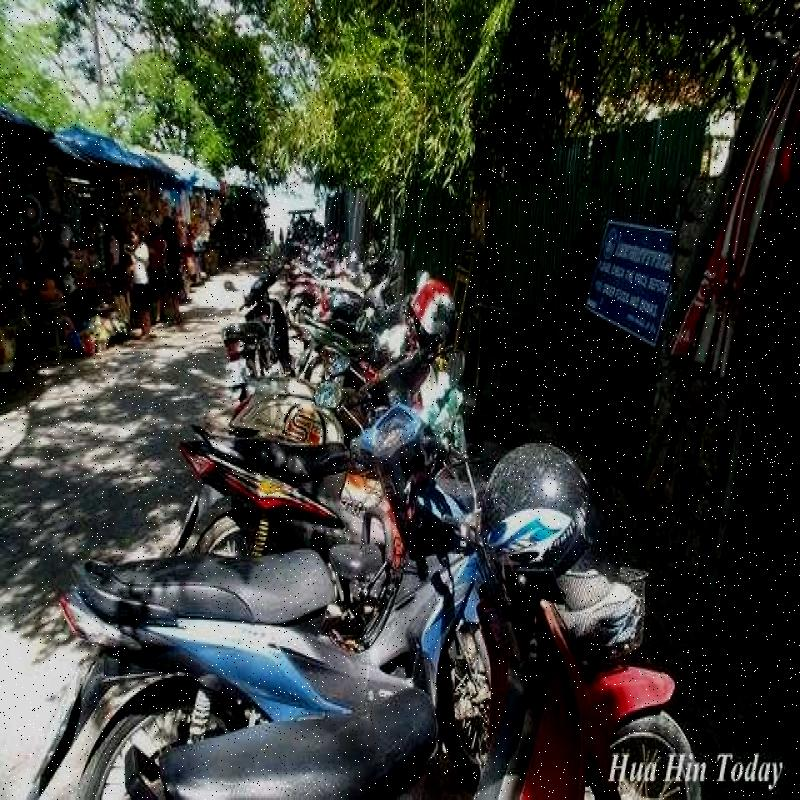bike: (103, 493, 571, 776), (356, 544, 730, 800), (134, 390, 475, 552), (208, 390, 464, 481)
